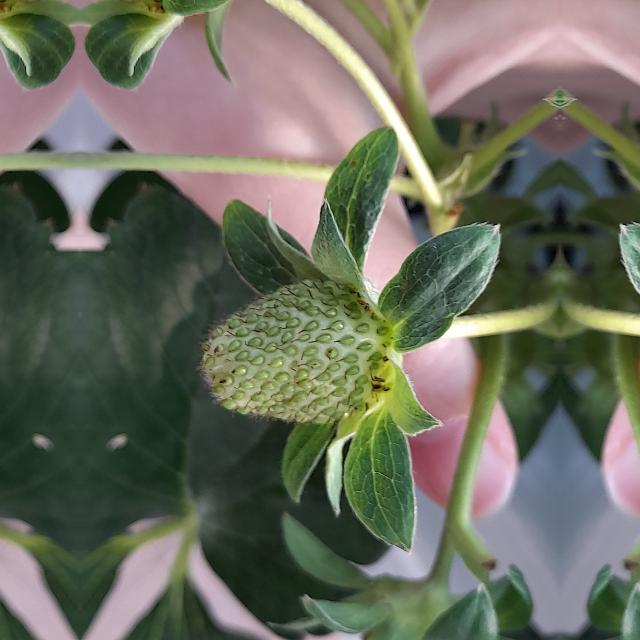Health_25: (194, 277, 390, 427)
